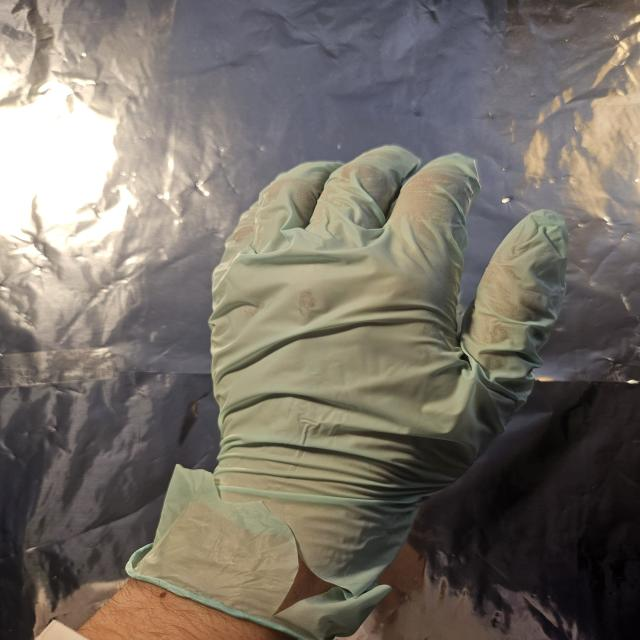gloves_damaged: (122, 144, 568, 625)
